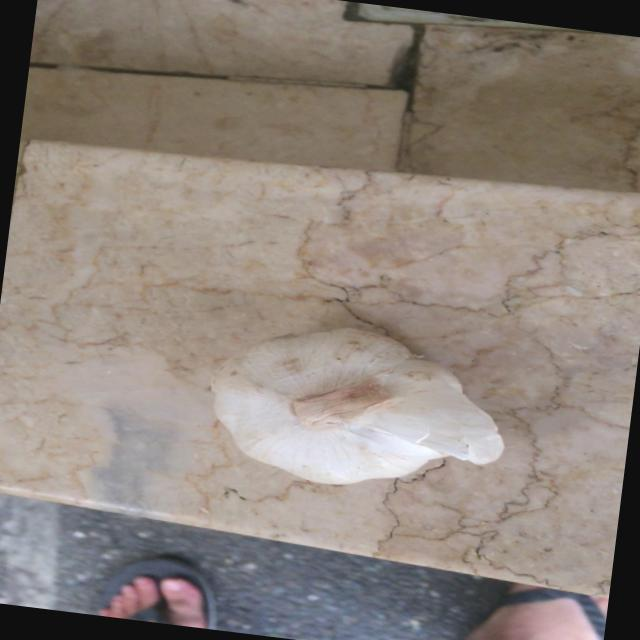bawang: (198, 310, 518, 508)
